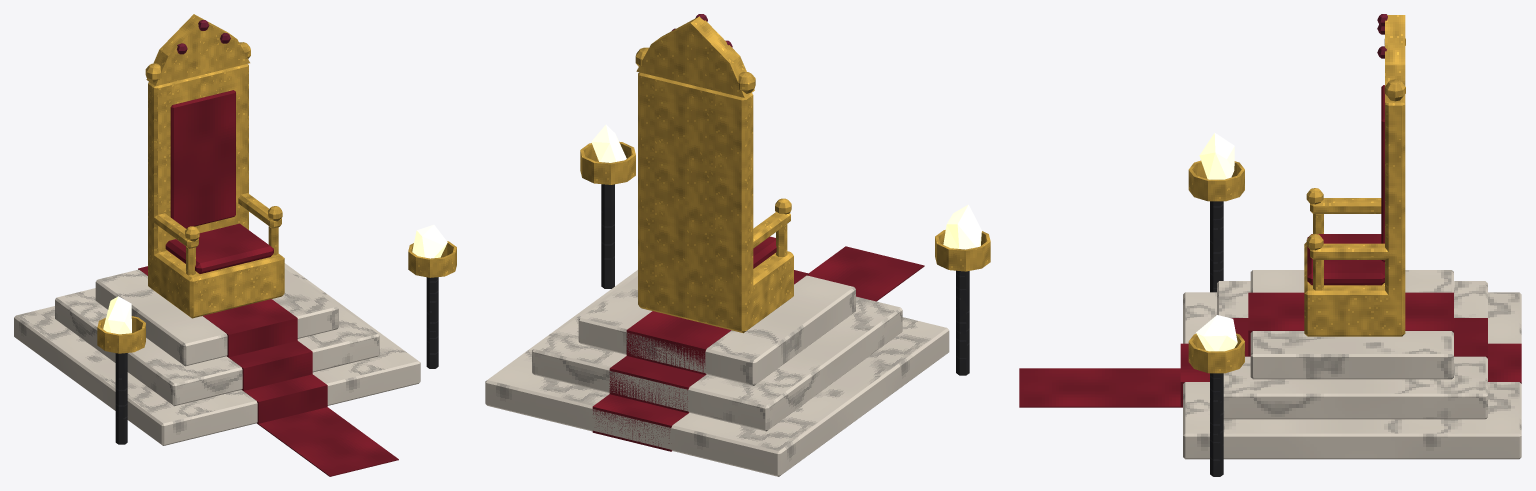
Rendered from throne.glb.
3 views of the same model, side by side, from view 1: azimuth 30°, elevation 25°; view 2: azimuth 150°, elevation 25°; view 3: azimuth 270°, elevation 25° (orthographic). The views are drawn at different scales.
Visible parts, largest first — view 1: throne; view 2: throne; view 3: throne.
Boxes of the visible parts, x1,y1,x2,y2 form: throne: (14,14,456,476); throne: (485,14,990,476); throne: (1019,14,1521,476).
Size of what is drawn, in the model's own units: 4.08 by 3.66 by 4.45.
Materials: 6 (5 with a texture image).
